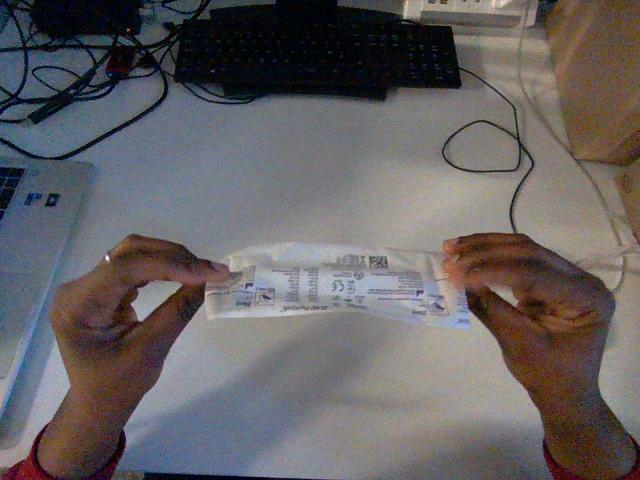syringe: (205, 243, 469, 328)
